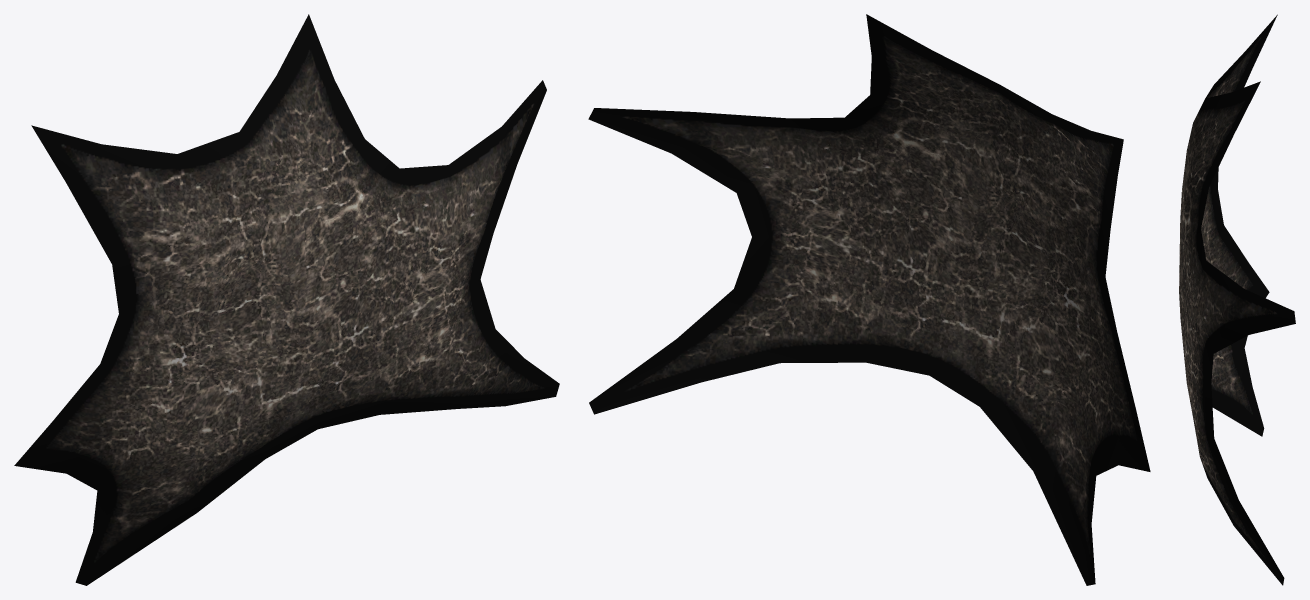
The model's file is cobwebs_strong_03.dae.
The picture shows the model from 3 angles, left to right: view 1: azimuth 30°, elevation 25°; view 2: azimuth 150°, elevation 25°; view 3: azimuth 270°, elevation 25°; orthographic projection. The views are drawn at different scales.
Visible parts, largest first — view 1: cobweb_3; view 2: cobweb_3; view 3: cobweb_3.
Boxes of the visible parts, bbox=[...] form: cobweb_3: bbox=[14, 14, 559, 585]; cobweb_3: bbox=[588, 14, 1150, 585]; cobweb_3: bbox=[1179, 14, 1295, 585].
Size of the model in its own units: 0.888 by 0.7937 by 0.1871.
